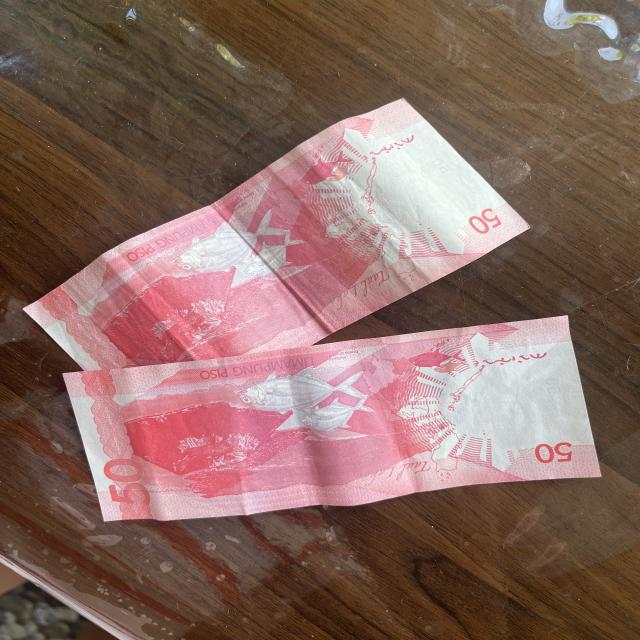50_maliputo: (164, 202, 309, 296), (236, 359, 372, 444)
50_maliputo_watermark: (401, 341, 476, 382), (293, 146, 363, 186)
value_watermark: (534, 370, 572, 403)
watermark: (440, 355, 573, 455)
